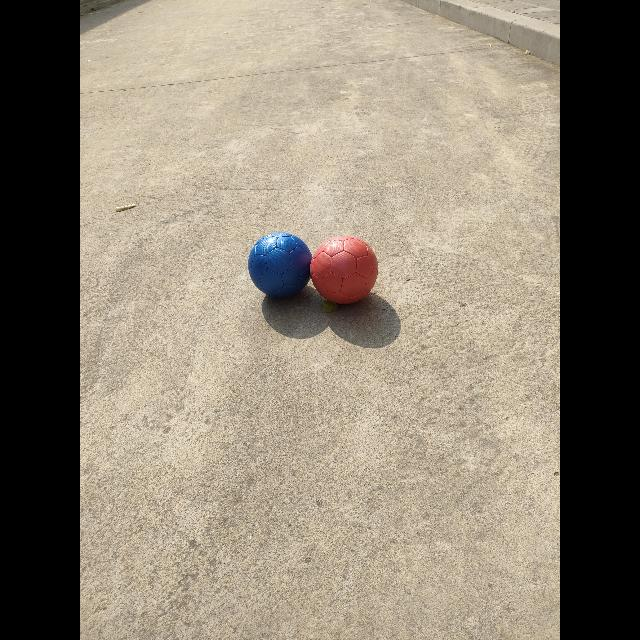B: (248, 232, 310, 298)
R: (310, 236, 378, 304)
